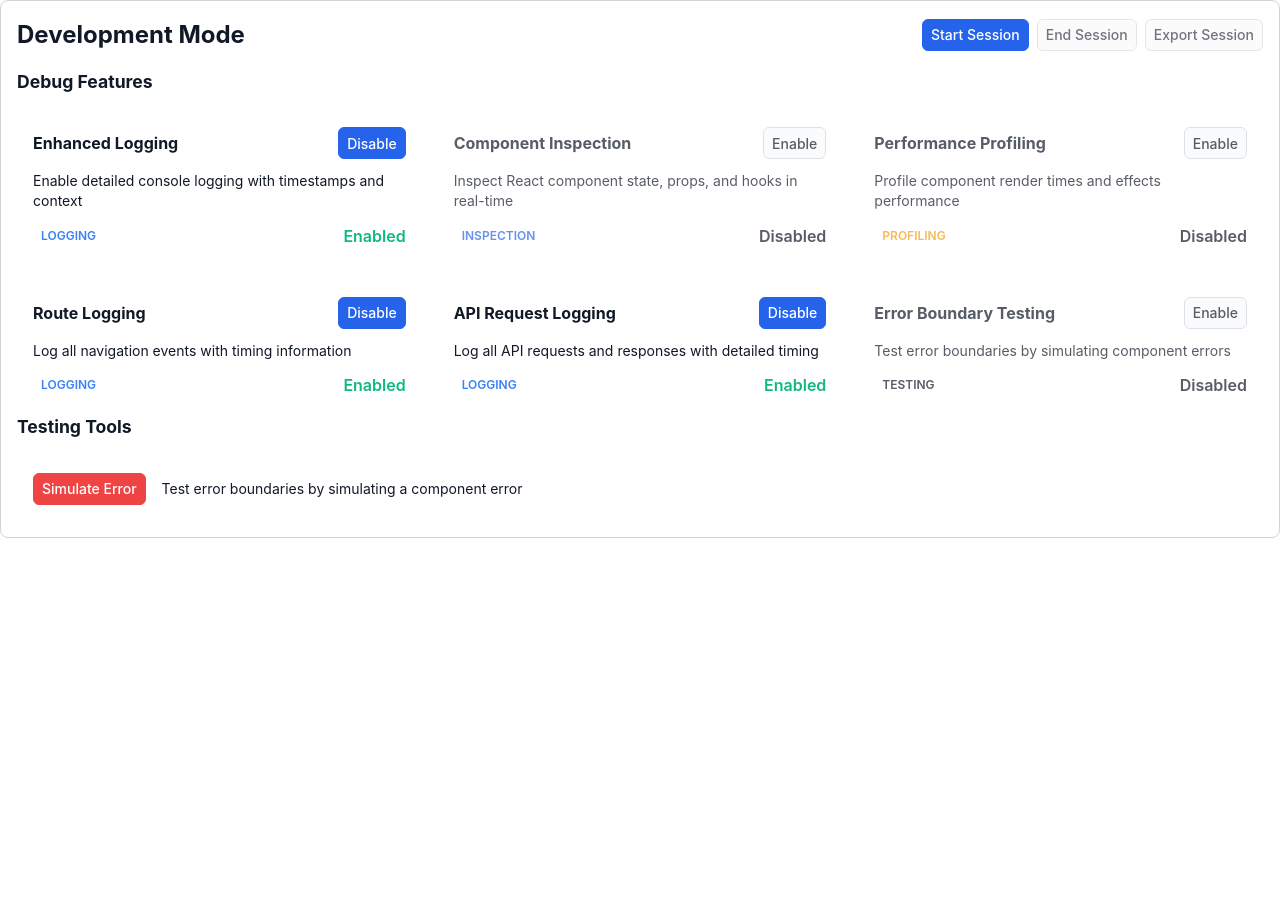
Test case: DevMode Component › creates and ends debug session
This screenshot has width=1280, height=900.
Expected: the text "Debug Session" is not shown
// Start session
What coordinates should you click on to do the following:
click the button "Start Session"
I would click on:
 (975, 35)
Its box is [922,19,1029,51].
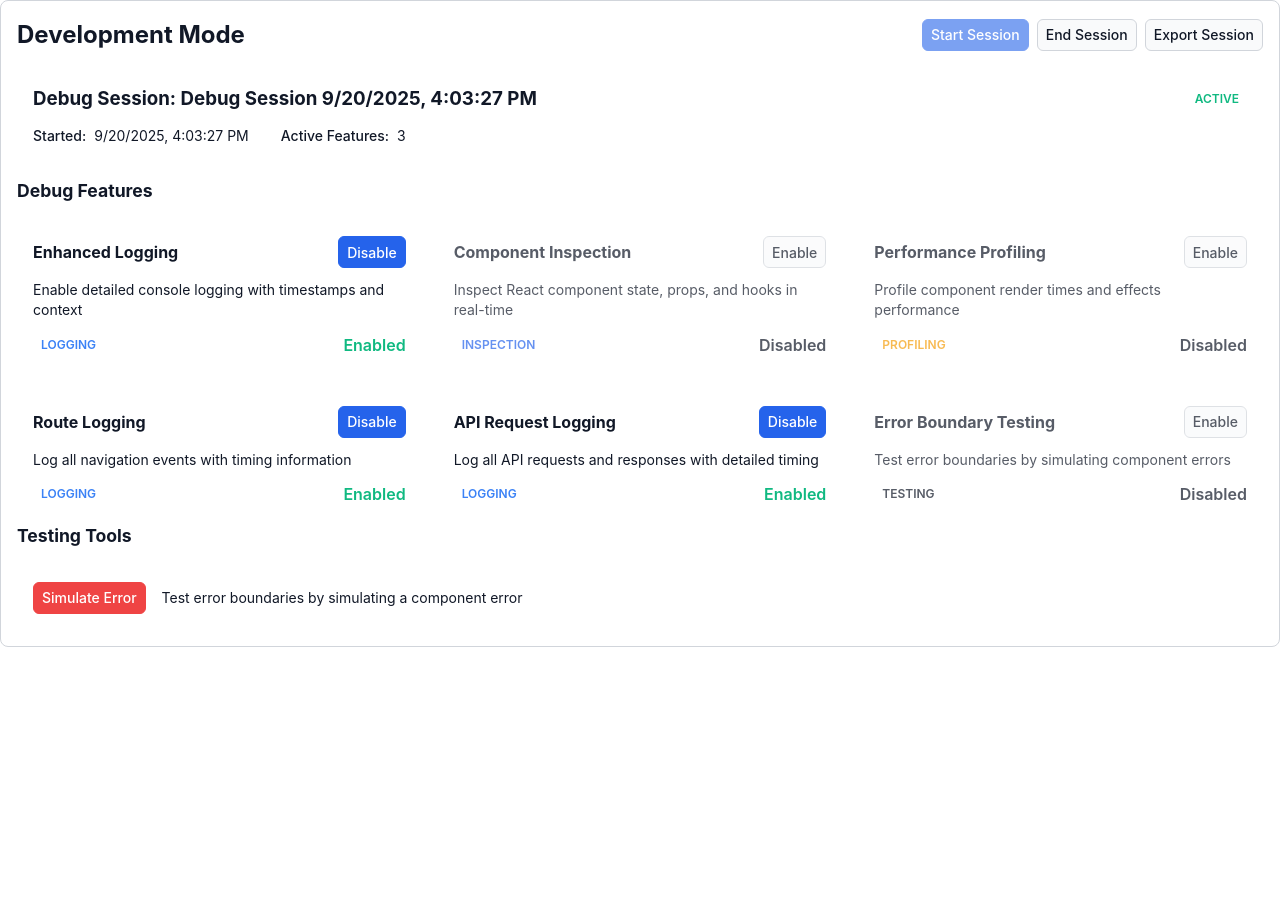
Expected: the heading "Debug Session: Debug Session 9/20/2025, 4:03:27 PM" is shown, [33,85,537,113]
Expected: the text "Active" is shown, [1195,91,1239,106]
// End session
What coordinates should you click on to do the following:
click the button "End Session"
I would click on:
 (1087, 35)
Its box is [1037,19,1137,51].
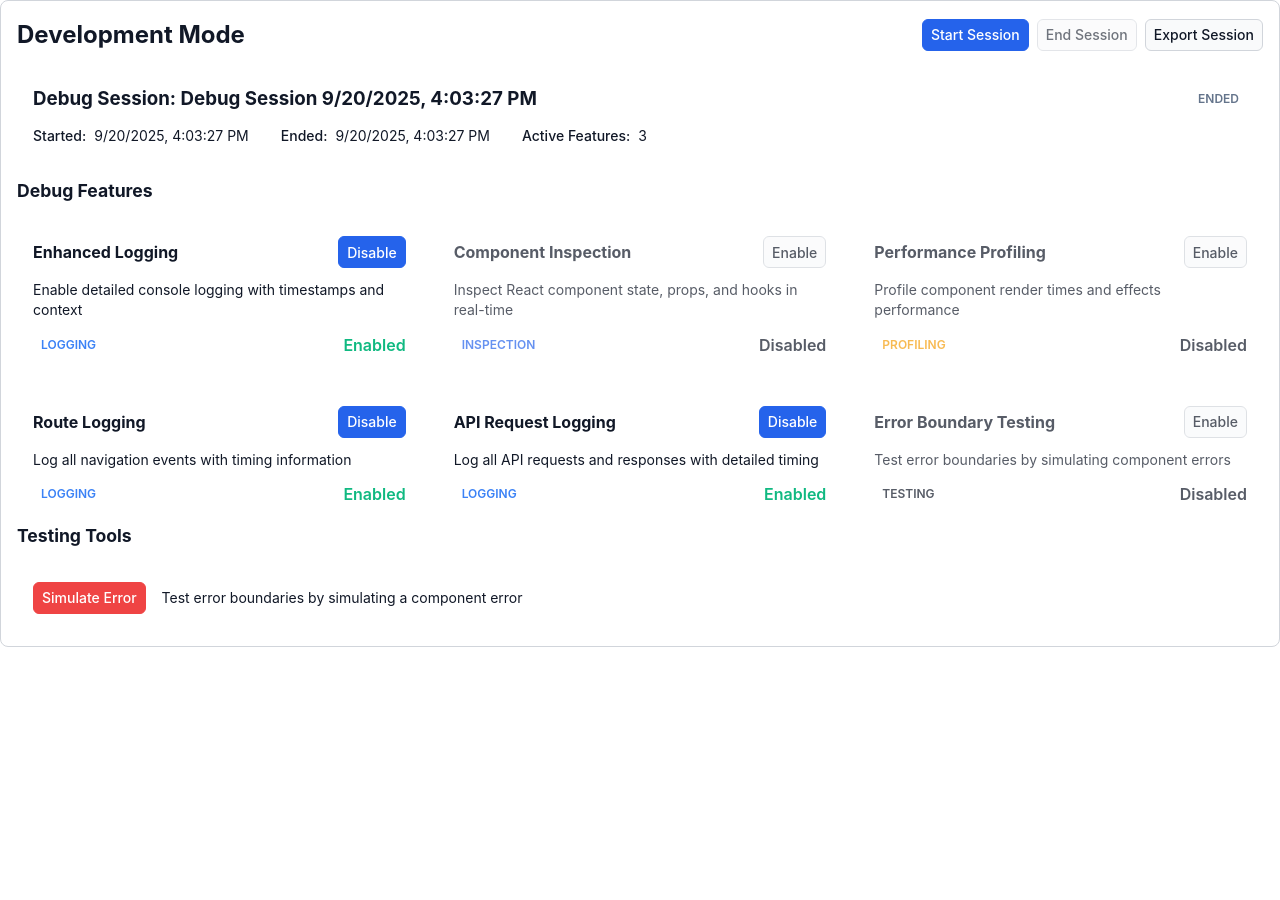
Expected: the text "Ended" is shown, [1198,91,1239,106]
